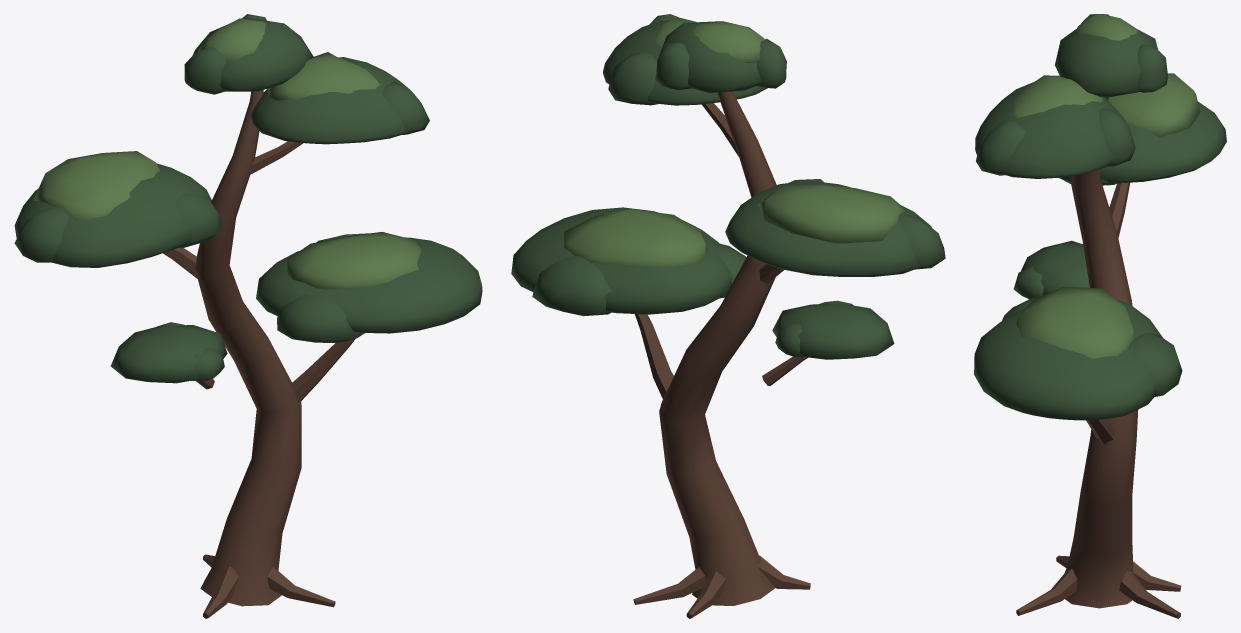
The model's file is pine_tree.glb.
3 views of the same model, side by side, from view 1: azimuth 30°, elevation 25°; view 2: azimuth 150°, elevation 25°; view 3: azimuth 270°, elevation 25° (orthographic).
Parts seen in each view (by area): view 1: foliage, trunk; view 2: foliage, trunk; view 3: foliage, trunk.
Part boxes in pixels (x1,y1,x2,y2): foliage: [14, 14, 482, 383]; trunk: [163, 90, 355, 618]; foliage: [511, 14, 945, 359]; trunk: [633, 91, 810, 618]; foliage: [974, 14, 1226, 420]; trunk: [1016, 169, 1181, 618].
Size of what is drawn, in the model's own units: 7.3 by 9.11 by 3.65.
